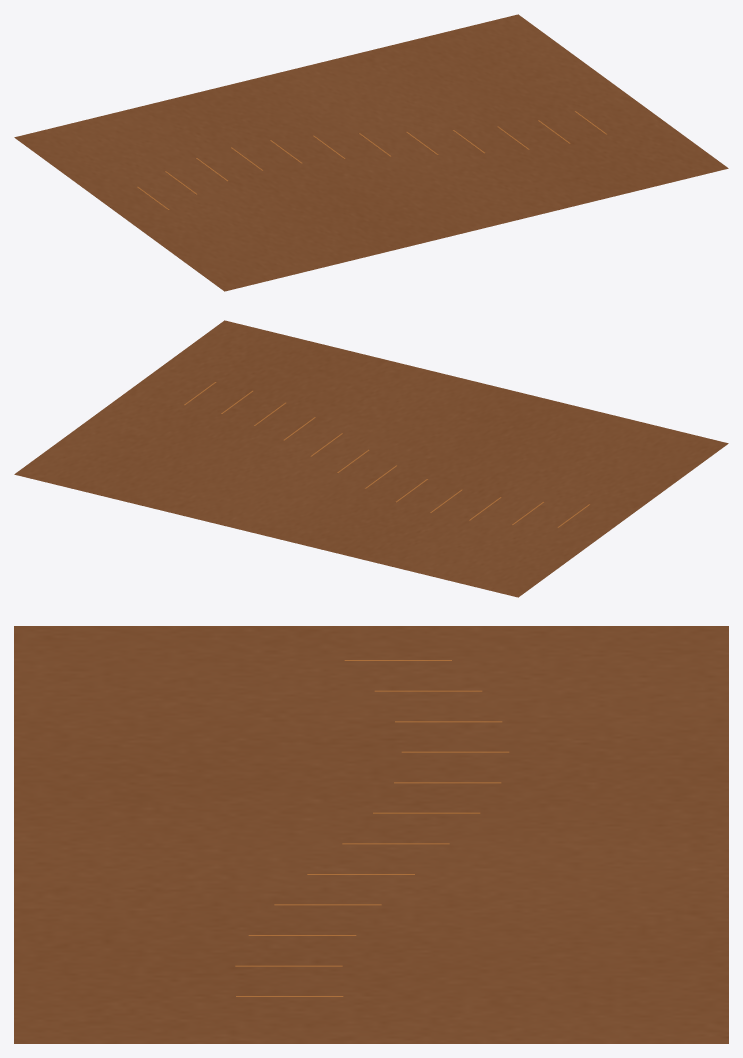
Rendered from 280_L120_L15_LayerReference.obj.
The picture shows the model from 3 angles, top to bottom: view 1: azimuth 30°, elevation 25°; view 2: azimuth 150°, elevation 25°; view 3: azimuth 270°, elevation 25°; orthographic projection. The views are drawn at different scales.
Visible parts, largest first — view 1: 280_L120_L15_LayerReference; view 2: 280_L120_L15_LayerReference; view 3: 280_L120_L15_LayerReference.
Boxes of the visible parts, x1,y1,x2,y2 form: 280_L120_L15_LayerReference: [14, 14, 728, 291]; 280_L120_L15_LayerReference: [14, 320, 728, 597]; 280_L120_L15_LayerReference: [14, 626, 728, 1043].
Size of the model in its own units: 0.506 by 0.00013 by 0.366.
2 materials, 2 textured.
